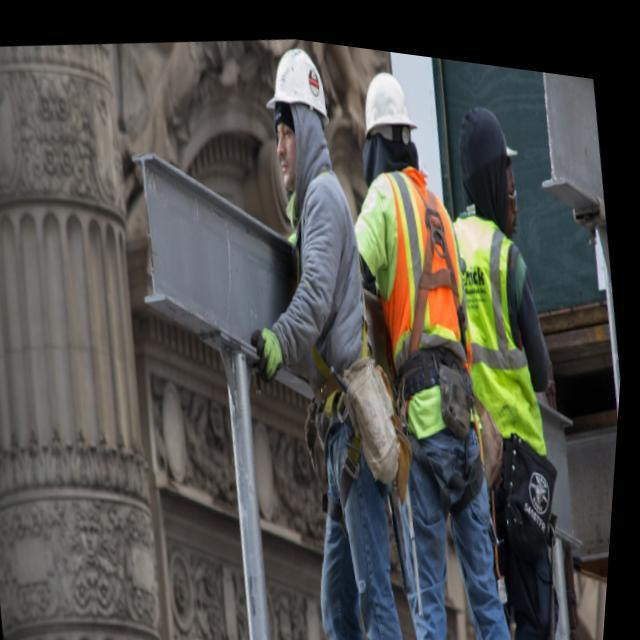belt: (399, 175, 468, 300)
